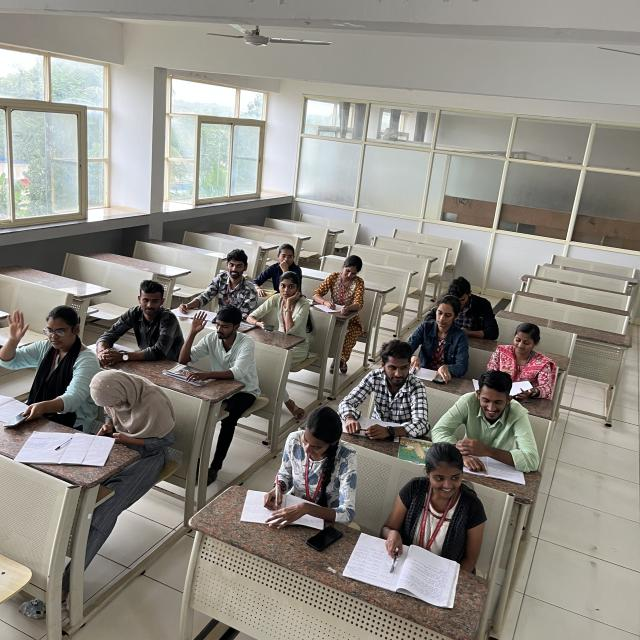Hand Rising: (174, 308, 263, 391)
Reading: (439, 373, 554, 486), (484, 328, 568, 404), (402, 307, 472, 384)
Using Phone: (84, 376, 190, 442), (421, 264, 511, 334)
Writing: (252, 400, 355, 530), (319, 257, 380, 323)
